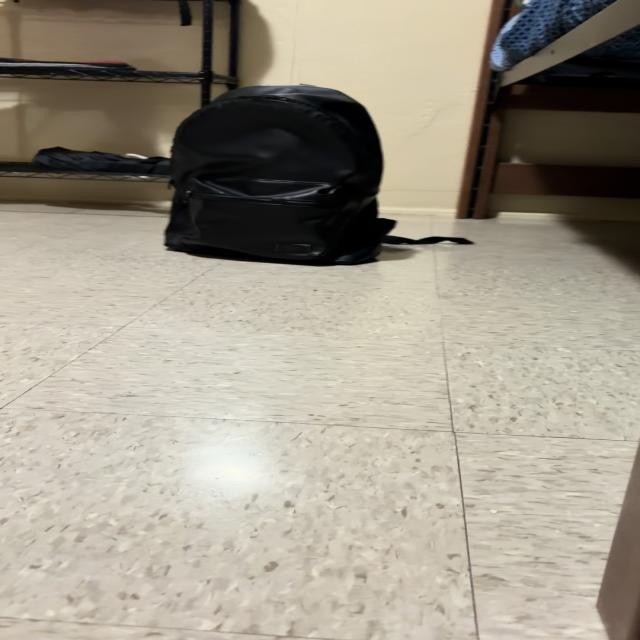backpack: (166, 85, 470, 264)
